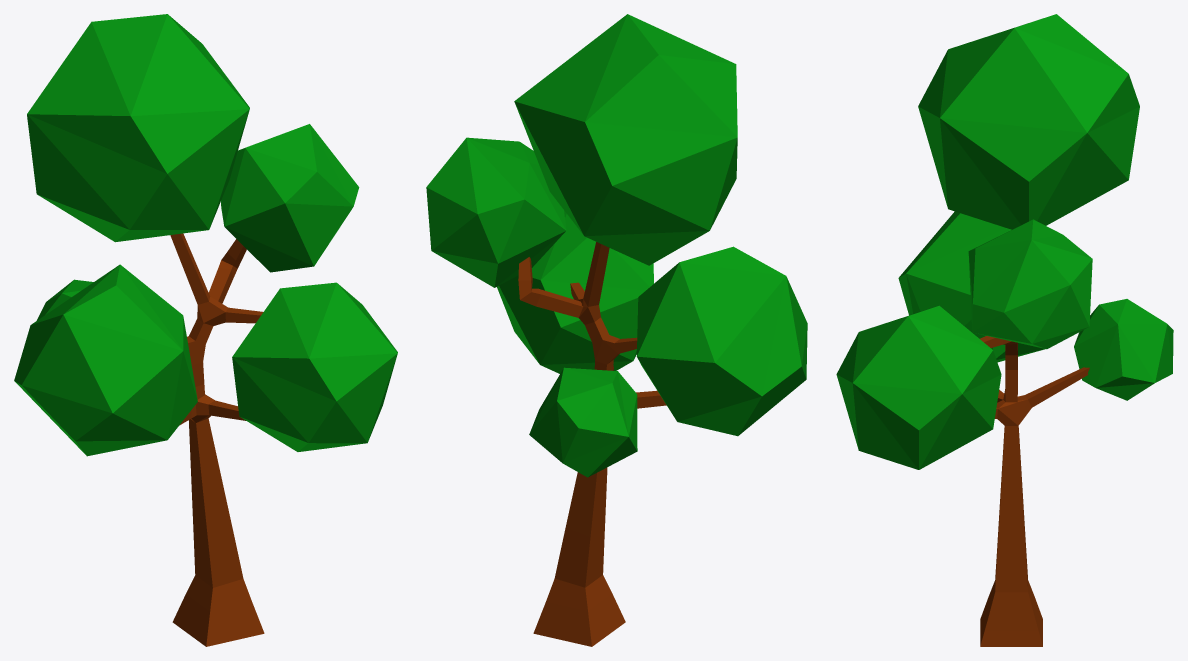
Rendered from sharFull.fbx.
The picture shows the model from 3 angles, left to right: view 1: azimuth 30°, elevation 25°; view 2: azimuth 150°, elevation 25°; view 3: azimuth 270°, elevation 25°; orthographic projection. The views are drawn at different scales.
Visible parts, largest first — view 1: Icosphere; view 2: Icosphere; view 3: Icosphere.
Part boxes in pixels (x1,y1,x2,y2): Icosphere: [14, 14, 397, 646]; Icosphere: [426, 14, 807, 646]; Icosphere: [836, 14, 1173, 646].
Bounding box in the file's own units: 5 × 8.63 × 4.52.
